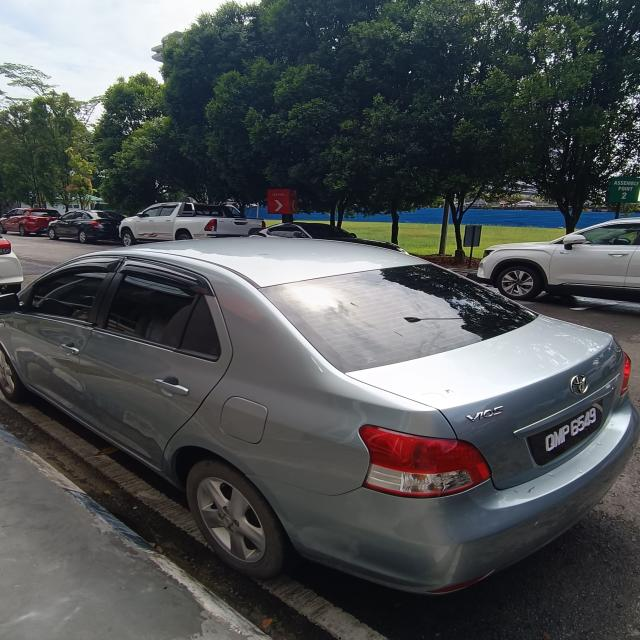ToyotaVios: (1, 233, 638, 595)
